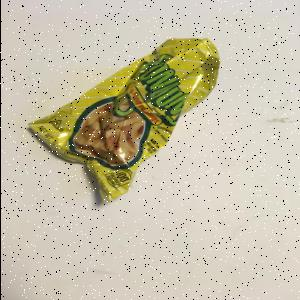Trash: (28, 38, 221, 206)
